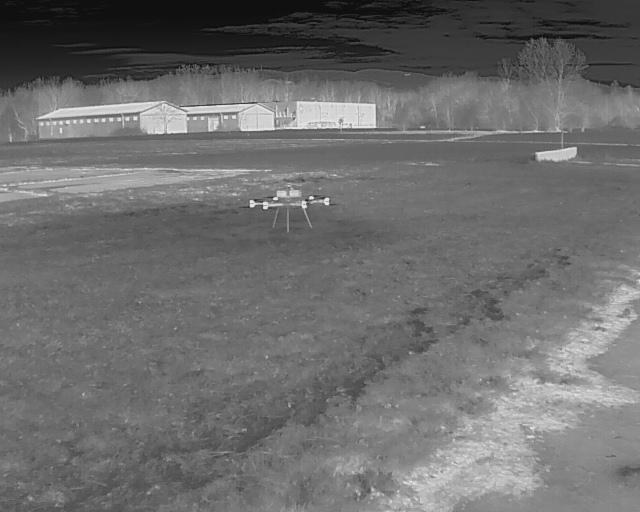drone: (244, 182, 334, 232)
